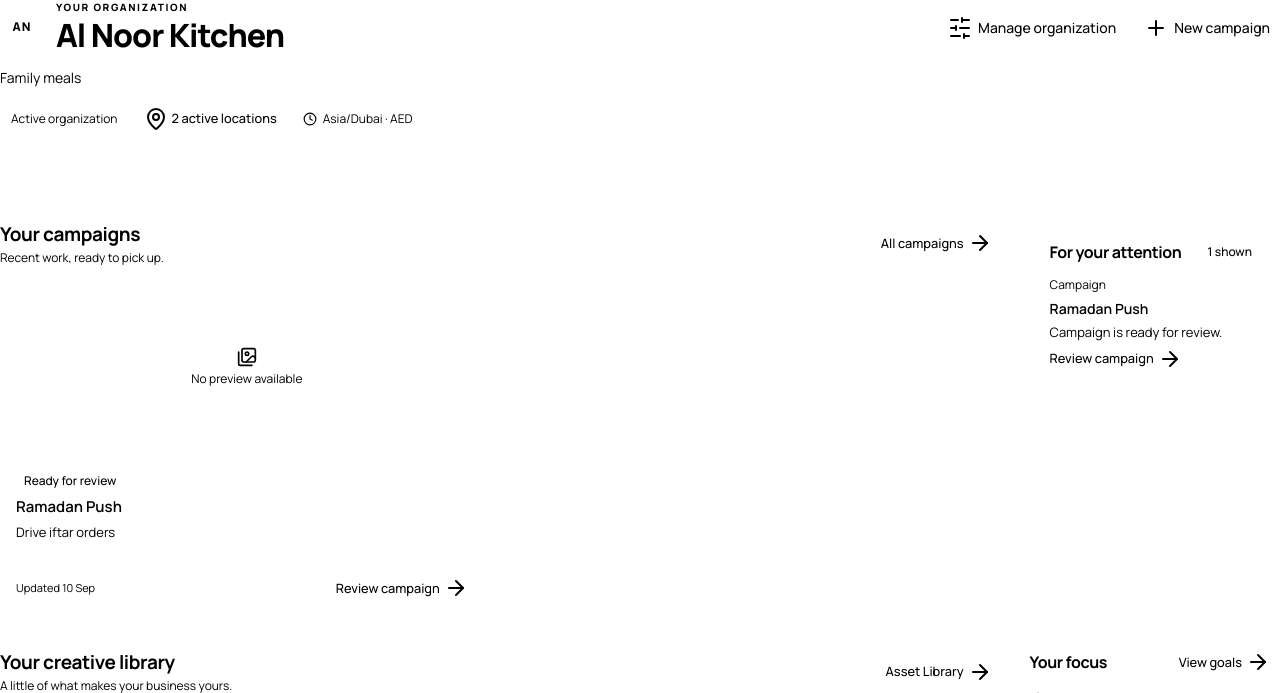
OrganizationHome polish (FIX E) › keeps a single branch goal reachable when no org focus is set
Click the button "View goals".
click(1224, 662)  # box [1169,648,1279,676]
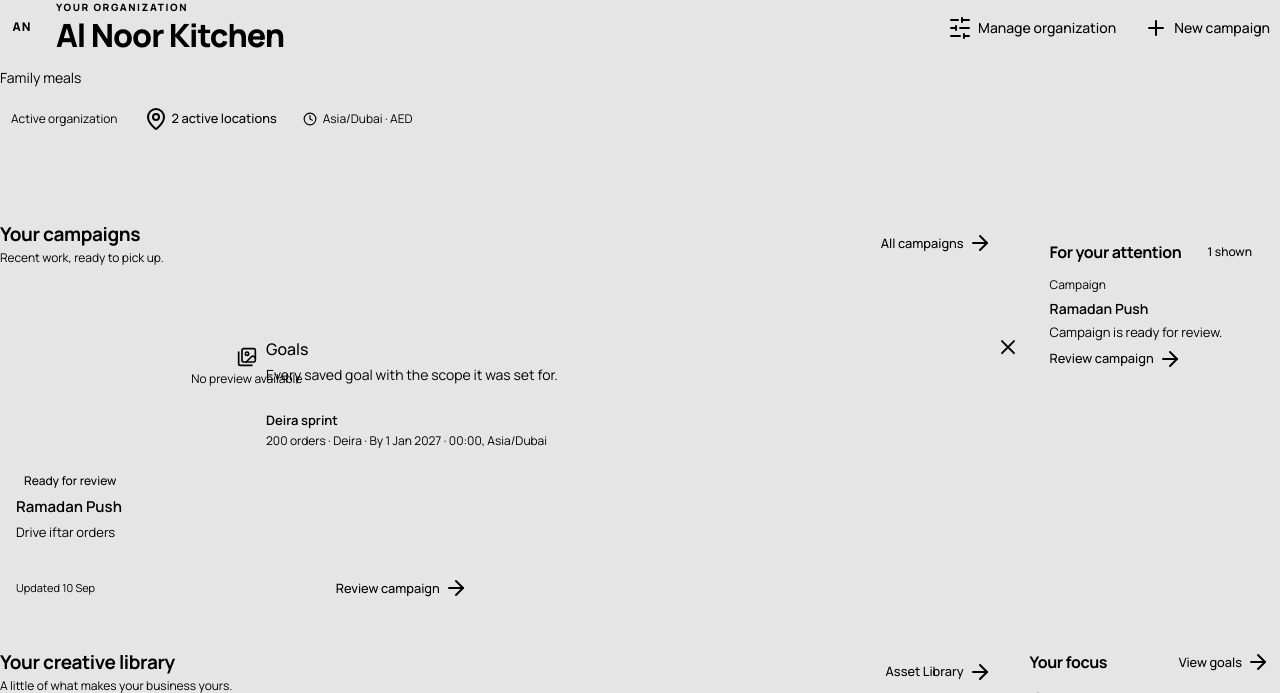
Check: the text "Deira sprint" is shown, box [266,411,338,429]
